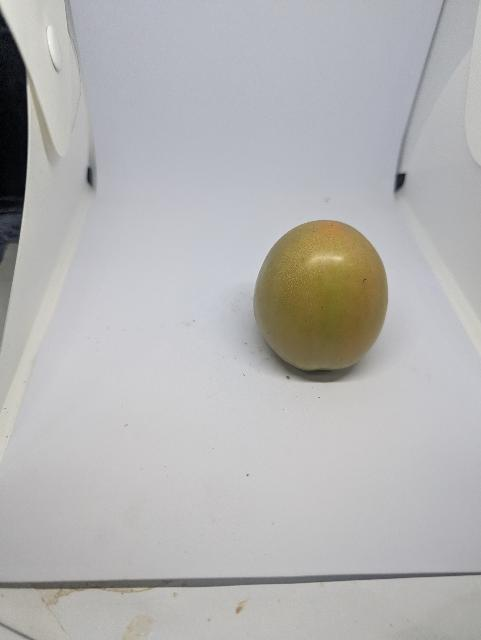breaker: (254, 220, 388, 370)
